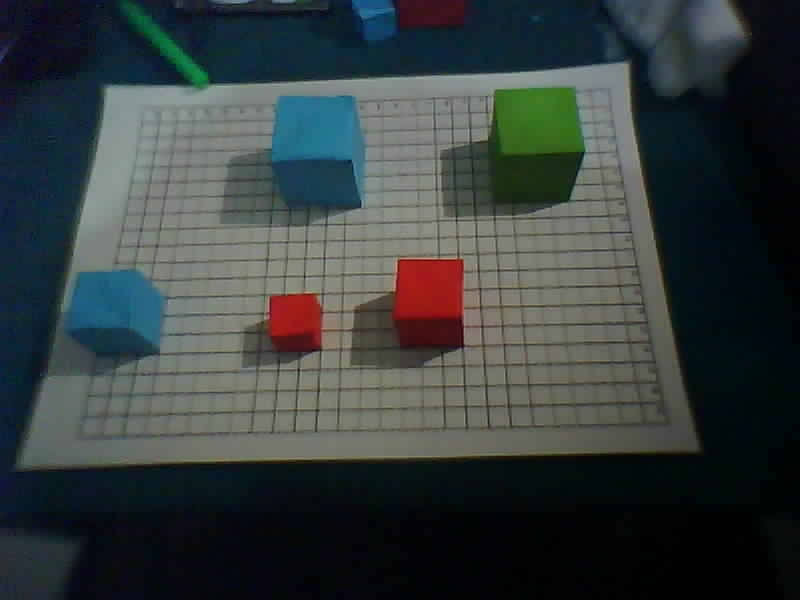blue(3x3x3): (56, 232, 192, 368)
blue(4x4x4): (254, 80, 381, 219)
green(4x4x4): (462, 81, 606, 228)
red(2x2x2): (252, 280, 334, 369)
red(3x3x3): (377, 233, 492, 365)
